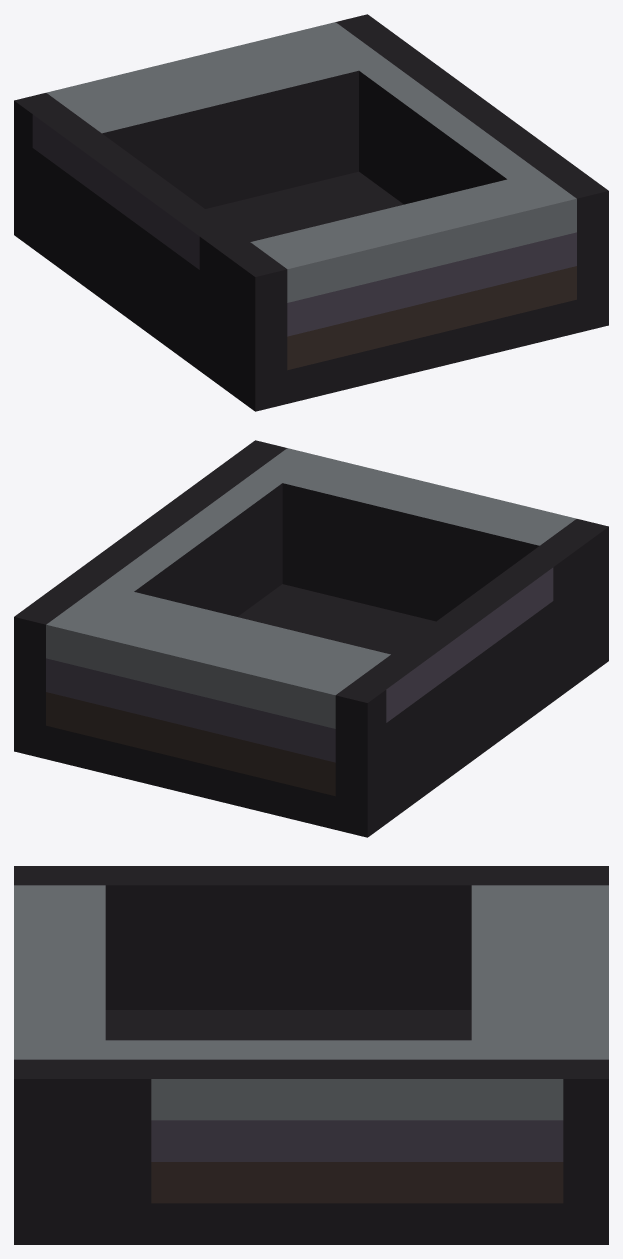
File: gatekeeper_BootR.glb
The picture shows the model from 3 angles, top to bottom: view 1: azimuth 30°, elevation 25°; view 2: azimuth 150°, elevation 25°; view 3: azimuth 270°, elevation 25°; orthographic projection. The views are drawn at different scales.
Parts seen in each view (by area): view 1: gatekeeper_BootR; view 2: gatekeeper_BootR; view 3: gatekeeper_BootR.
Boxes of the visible parts, x1,y1,x2,y2 form: gatekeeper_BootR: (14,14,608,411); gatekeeper_BootR: (14,440,608,837); gatekeeper_BootR: (14,866,608,1244).
Size of the model in its own units: 1.38 by 0.5 by 1.62.
1 material, 1 textured.
